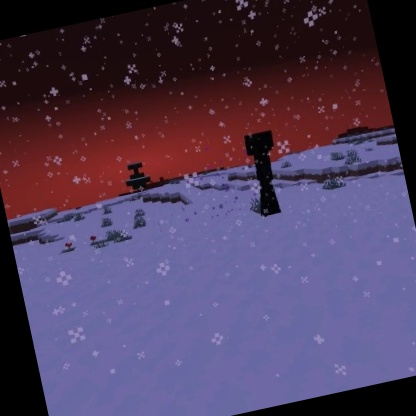enderman: (241, 128, 291, 220)
